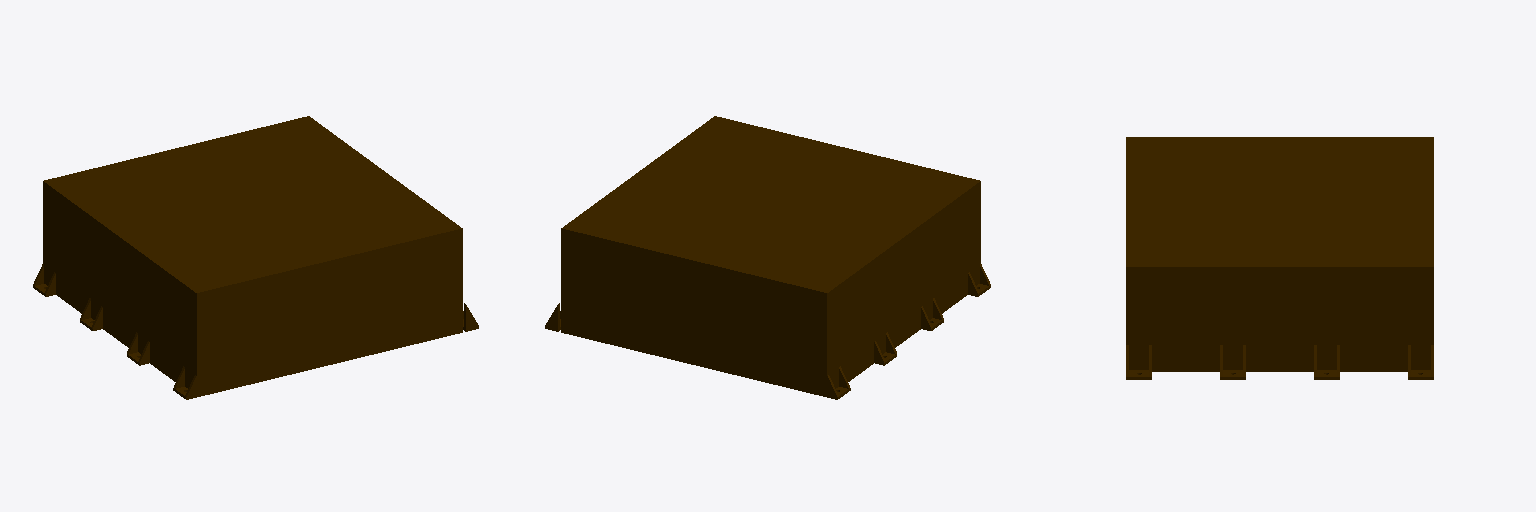
The model's file is DarkmatterCube.obj.
The picture shows the model from 3 angles: view 1: azimuth 30°, elevation 25°; view 2: azimuth 150°, elevation 25°; view 3: azimuth 270°, elevation 25°; orthographic projection.
Visible parts, largest first — view 1: Rectangle652, Rectangle659; view 2: Rectangle652, Rectangle659; view 3: Rectangle652, Rectangle660.
Boxes of the visible parts, x1=… form: Rectangle652: x1=43, y1=116, x2=462, y2=396; Rectangle659: x1=33, y1=264, x2=199, y2=399; Rectangle652: x1=561, y1=116, x2=980, y2=396; Rectangle659: x1=824, y1=264, x2=990, y2=399; Rectangle652: x1=1126, y1=137, x2=1433, y2=371; Rectangle660: x1=1126, y1=345, x2=1433, y2=379.
Bounding box in the file's own units: 44 × 15 × 40.